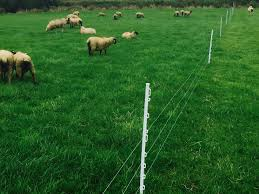sheep: (14, 51, 38, 83), (88, 36, 118, 55), (1, 49, 16, 85), (46, 18, 67, 33), (78, 25, 100, 39), (64, 15, 84, 27), (131, 11, 148, 22), (66, 8, 84, 18), (96, 10, 112, 21), (110, 10, 123, 23), (181, 8, 194, 20), (245, 4, 256, 16), (172, 7, 182, 19)
